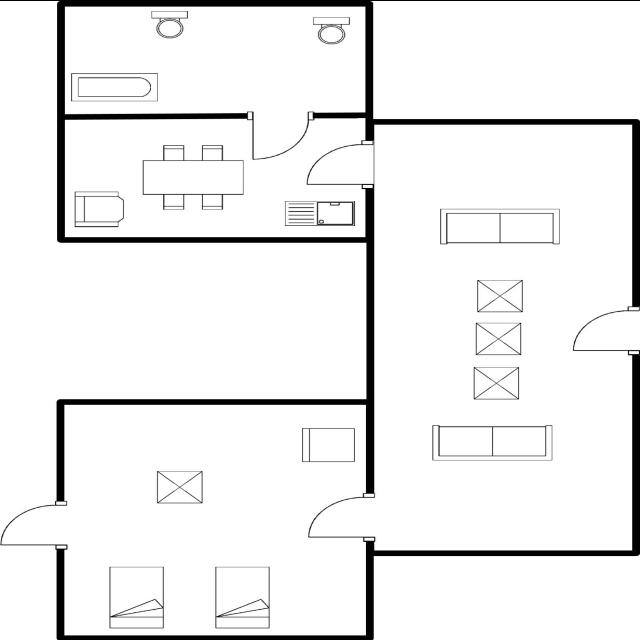armchair: (70, 187, 130, 230)
bed: (102, 562, 170, 630), (211, 562, 275, 632)
coffee_table: (472, 275, 529, 315), (152, 466, 206, 506), (469, 363, 523, 402), (472, 320, 526, 358)
dining_table: (138, 142, 248, 212)
large_sink: (148, 8, 194, 40), (309, 14, 353, 46)
large_sofa: (434, 203, 566, 247)
sink: (280, 197, 360, 230)
small_sofa: (296, 424, 358, 466)
tub: (66, 68, 166, 103)
